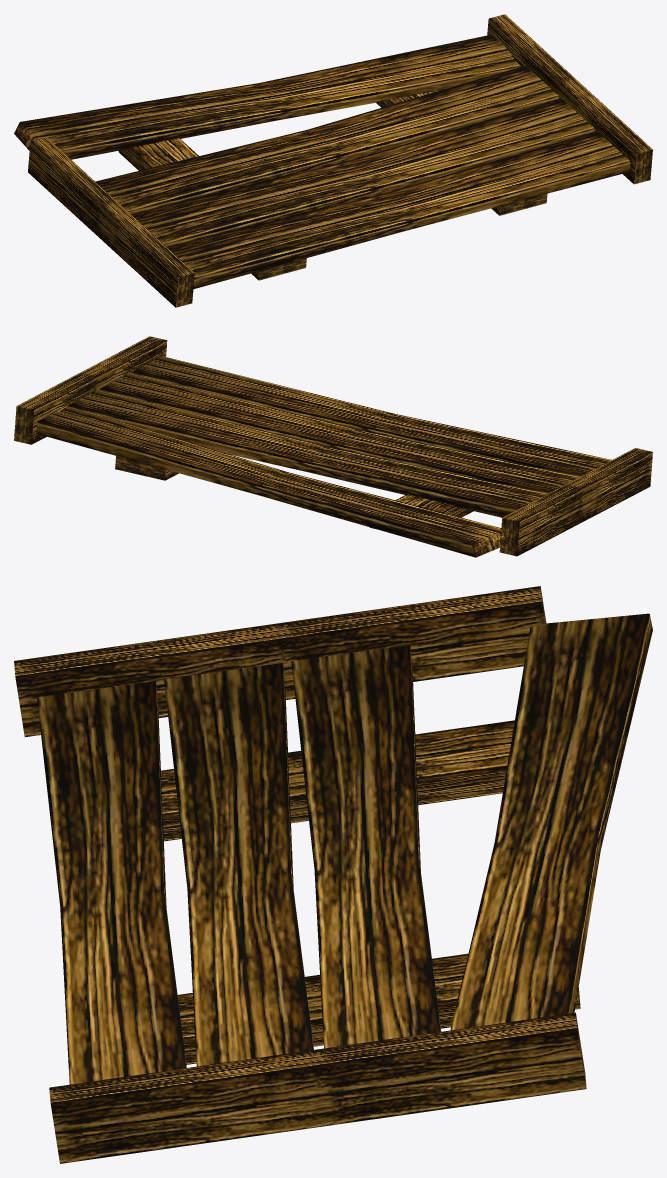
File: RM_WPOOL_PLATFORM03.fbx
The picture shows the model from 3 angles, top to bottom: view 1: azimuth 30°, elevation 25°; view 2: azimuth 150°, elevation 25°; view 3: azimuth 270°, elevation 25°; orthographic projection. The views are drawn at different scales.
Visible parts, largest first — view 1: RM_WPOOL_PLATFORM03; view 2: RM_WPOOL_PLATFORM03; view 3: RM_WPOOL_PLATFORM03.
Part boxes in pixels (x1=…): RM_WPOOL_PLATFORM03: x1=14, y1=14, x2=652, y2=307; RM_WPOOL_PLATFORM03: x1=14, y1=336, x2=652, y2=557; RM_WPOOL_PLATFORM03: x1=14, y1=586, x2=652, y2=1163.
Size of the model in its own units: 36408 by 5124 by 21630.
1 material, 1 textured.
